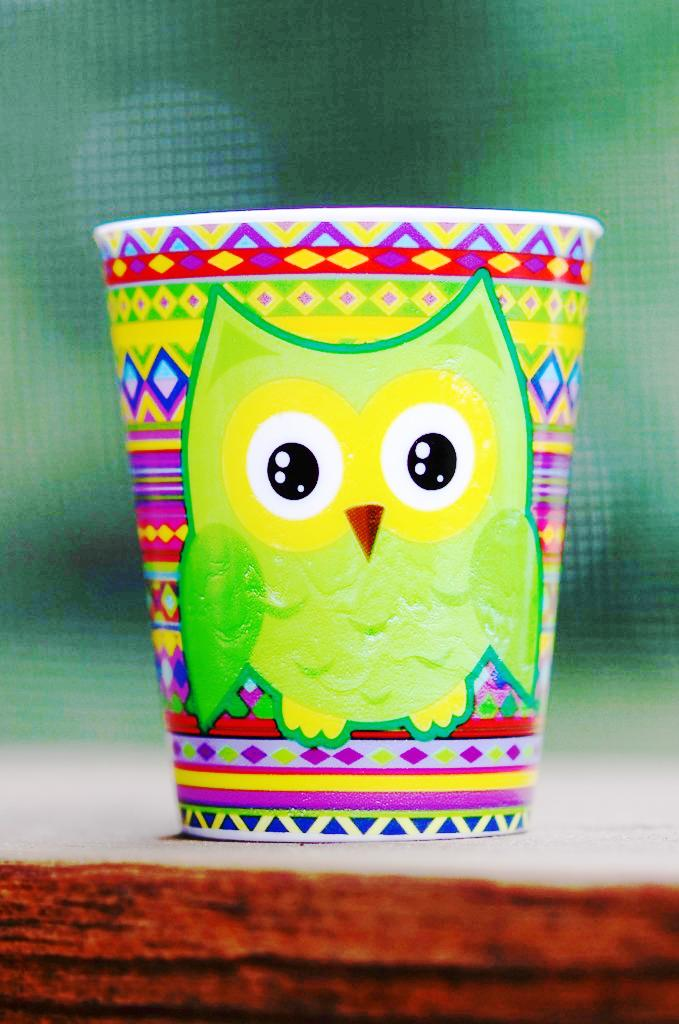Owl: (170, 266, 542, 756)
